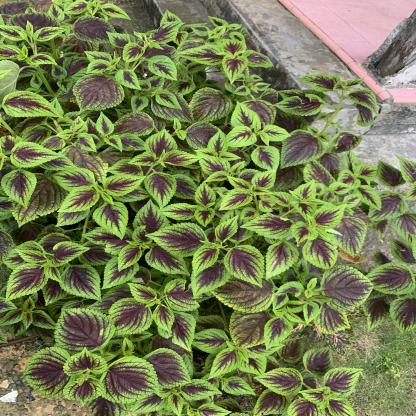Bunga Coleus: (17, 13, 388, 399)
